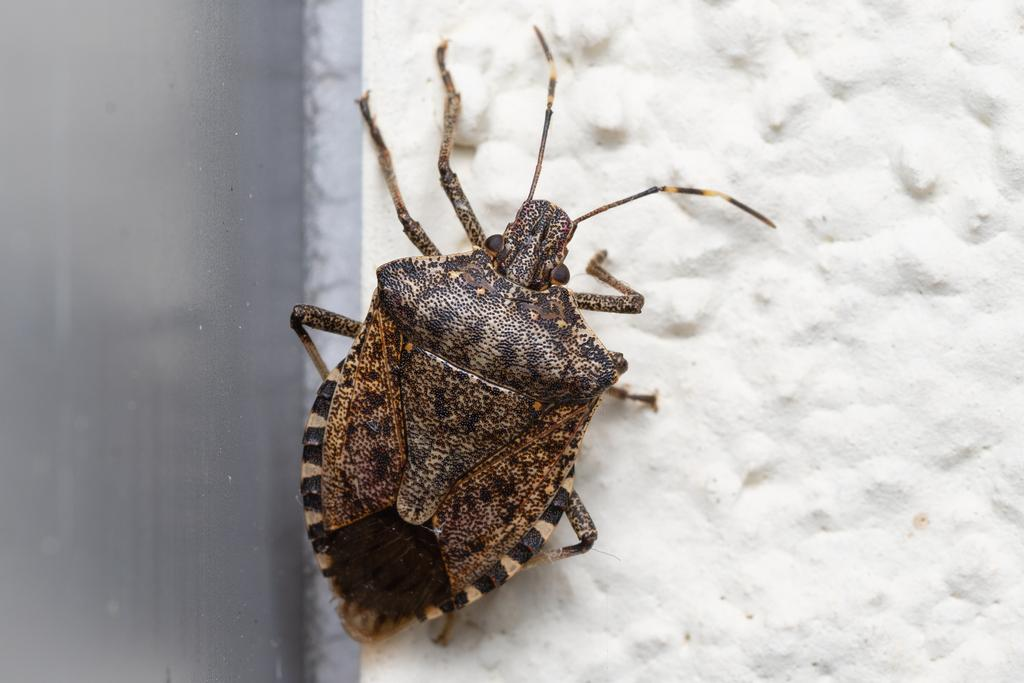stink_bugs: (238, 0, 809, 683)
